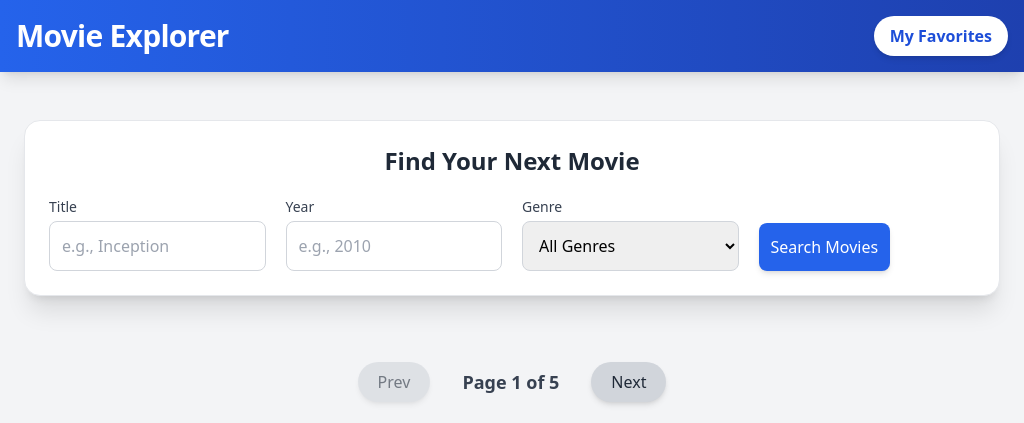
Test: pages/index.vue › shows a network error when fetch fails
The image size is (1024, 423).
Step 1. Type "ErrorMovie" into the field with id "title" → coordinates (157, 246), box [49,221,266,271]
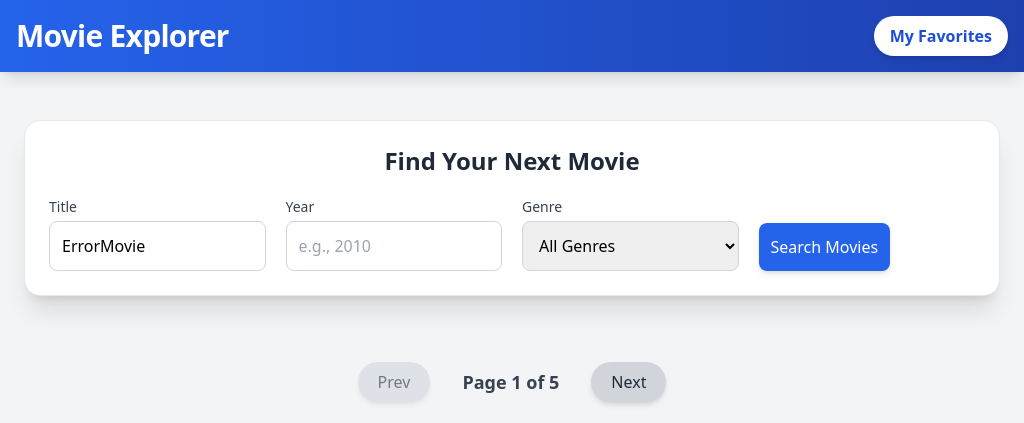
Step 2. Submit the form, box [49,197,975,271]
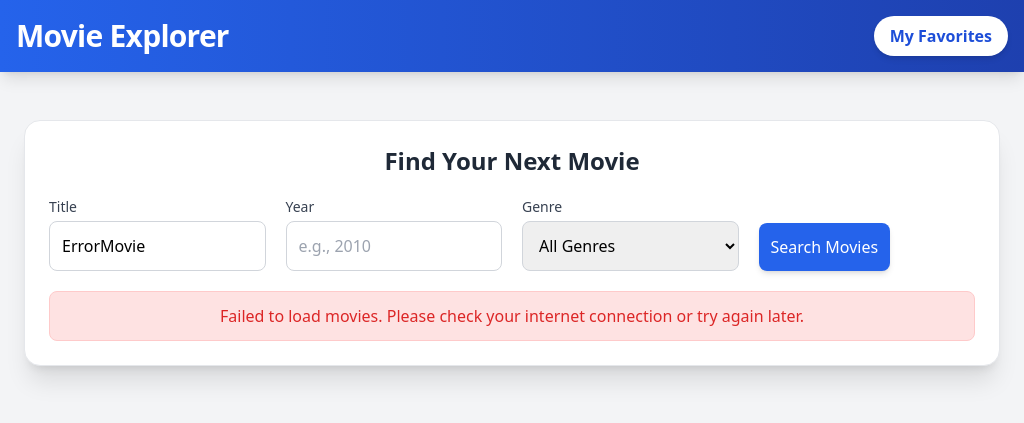
Now the text "Failed to load movies" is shown, box [220,305,804,327]
